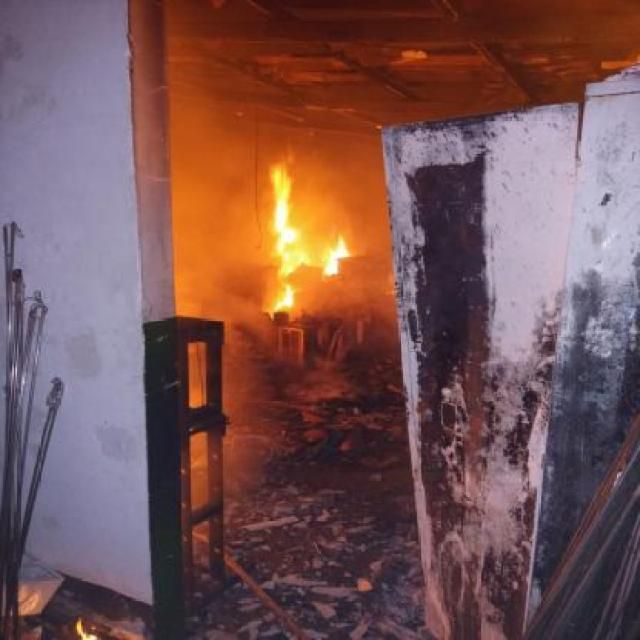Fire: (261, 140, 314, 274), (324, 232, 350, 277), (274, 284, 297, 310)
